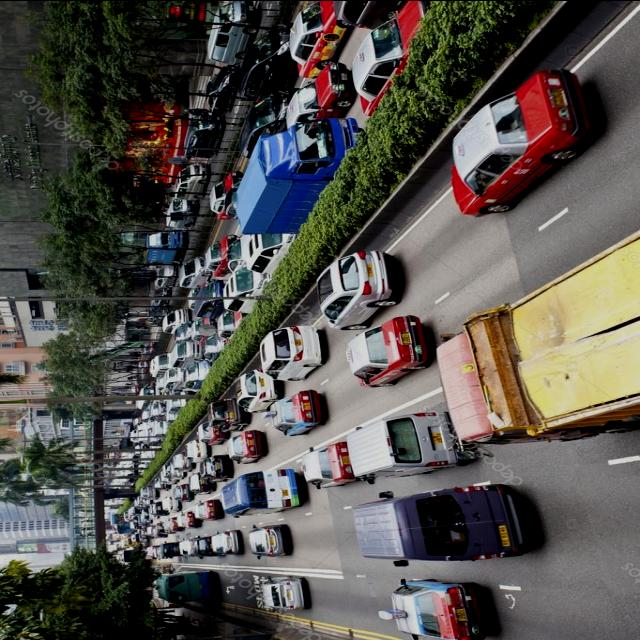bus: (154, 569, 219, 604)
